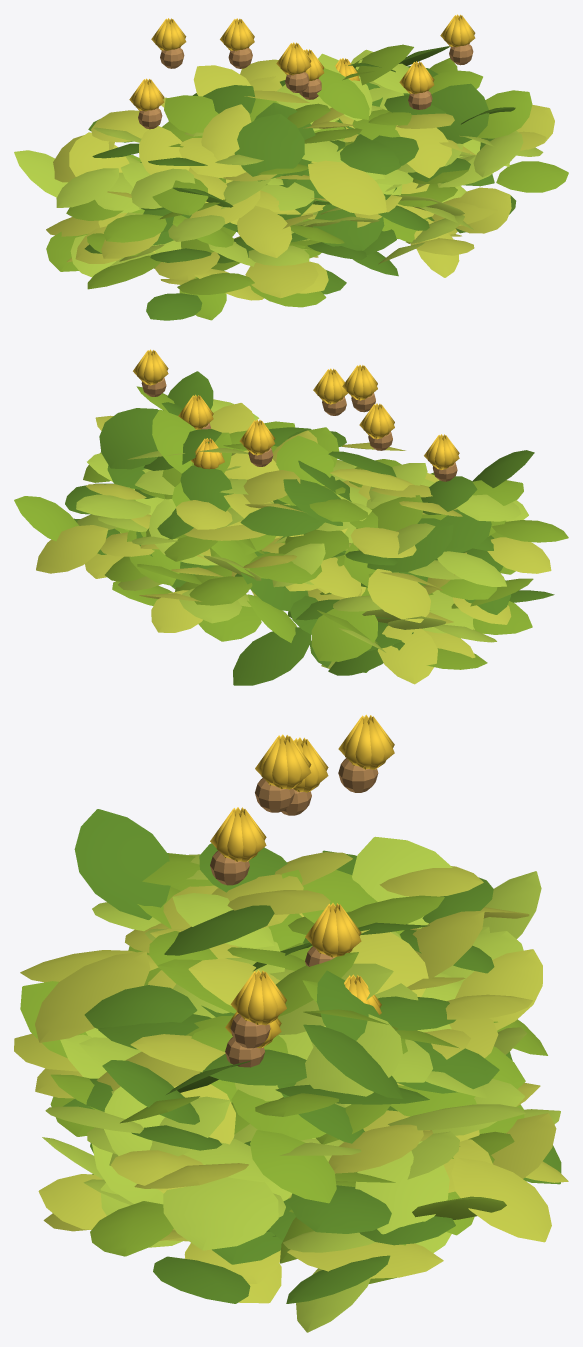
Rendered from PlanterCrown.fbx.
3 views of the same model, one above another, from view 1: azimuth 30°, elevation 25°; view 2: azimuth 150°, elevation 25°; view 3: azimuth 270°, elevation 25° (orthographic). The views are drawn at different scales.
Visible parts, largest first — view 1: Dense mixed planter leaves, Sunflower petals 1, Sunflower petals 6, Sunflower petals 0, Sunflower petals 2, Sunflower petals 3, Sunflower petals 7, Sunflower seed head.001, Sunflower seed head, Sunflower seed head.007, Sunflower seed head.002, Sunflower seed head.003; view 2: Dense mixed planter leaves, Sunflower petals 1, Sunflower petals 7, Sunflower petals 4, Sunflower petals 0, Sunflower petals 2, Sunflower petals 3, Sunflower petals 6, Sunflower petals 5; view 3: Dense mixed planter leaves, Sunflower petals 1, Sunflower petals 2, Sunflower petals 7, Sunflower petals 3, Sunflower petals 4, Sunflower petals 0, Sunflower seed head.003, Sunflower seed head.007, Sunflower seed head.001, Sunflower seed head.002, Sunflower seed head.006.
Part boxes in pixels (x1,y1,x2,y2): Dense mixed planter leaves: [14, 44, 568, 320]; Sunflower petals 1: [151, 18, 186, 50]; Sunflower petals 6: [399, 61, 434, 94]; Sunflower petals 0: [129, 78, 164, 111]; Sunflower petals 2: [220, 18, 254, 51]; Sunflower petals 3: [276, 42, 311, 75]; Sunflower petals 7: [440, 14, 475, 47]; Sunflower seed head.001: [160, 48, 184, 68]; Sunflower seed head: [138, 108, 162, 129]; Sunflower seed head.007: [449, 44, 473, 65]; Sunflower seed head.002: [228, 48, 252, 68]; Sunflower seed head.003: [285, 72, 309, 92]; Dense mixed planter leaves: [14, 371, 568, 685]; Sunflower petals 1: [359, 403, 394, 439]; Sunflower petals 7: [133, 349, 168, 385]; Sunflower petals 4: [239, 419, 275, 455]; Sunflower petals 0: [424, 434, 459, 469]; Sunflower petals 2: [342, 365, 377, 400]; Sunflower petals 3: [313, 368, 348, 404]; Sunflower petals 6: [178, 394, 213, 429]; Sunflower petals 5: [191, 438, 224, 469]; Dense mixed planter leaves: [14, 809, 568, 1332]; Sunflower petals 1: [338, 714, 394, 769]; Sunflower petals 2: [255, 734, 311, 789]; Sunflower petals 7: [230, 970, 286, 1025]; Sunflower petals 3: [210, 807, 266, 862]; Sunflower petals 4: [305, 903, 361, 957]; Sunflower petals 0: [293, 737, 328, 792]; Sunflower seed head.003: [210, 850, 249, 885]; Sunflower seed head.007: [230, 1013, 270, 1048]; Sunflower seed head.001: [338, 758, 378, 792]; Sunflower seed head.002: [255, 778, 294, 812]; Sunflower seed head.006: [225, 1037, 264, 1067].
Size of the model in its own units: 1.38 by 0.7717 by 0.9123.
